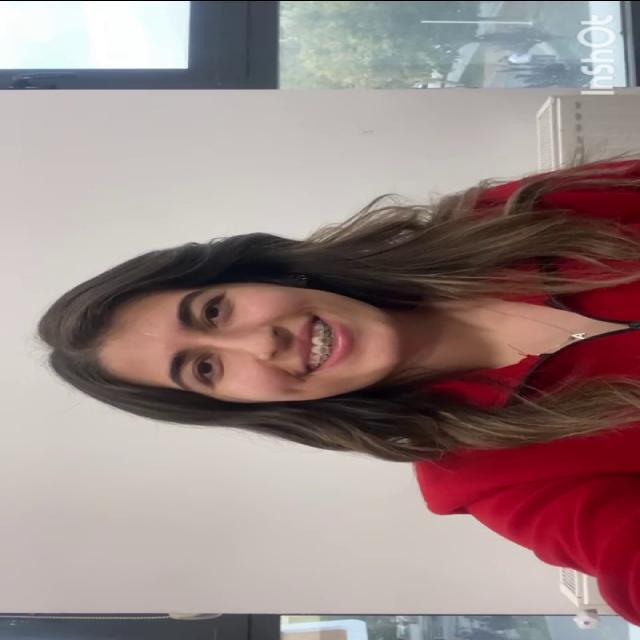happy: (98, 281, 403, 403)
